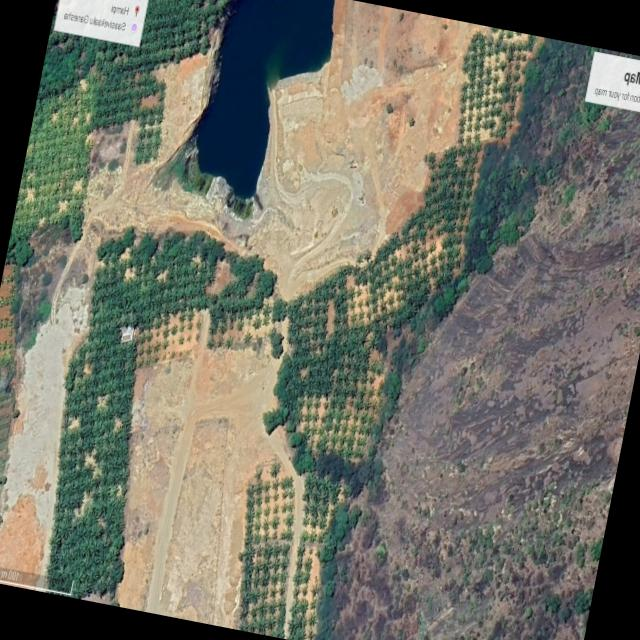ruins: (228, 0, 466, 315), (90, 302, 222, 610), (82, 31, 234, 234), (0, 290, 99, 584), (152, 404, 260, 626), (336, 3, 470, 121), (190, 332, 274, 429), (132, 342, 199, 443)
vegetation: (26, 313, 171, 607), (259, 252, 420, 493), (450, 35, 590, 298), (424, 449, 612, 640), (322, 150, 472, 368), (85, 217, 248, 367), (10, 73, 109, 252), (222, 457, 314, 636), (0, 266, 48, 556), (276, 471, 357, 640), (447, 24, 532, 156), (128, 0, 233, 74), (34, 37, 87, 121), (0, 271, 27, 373)
